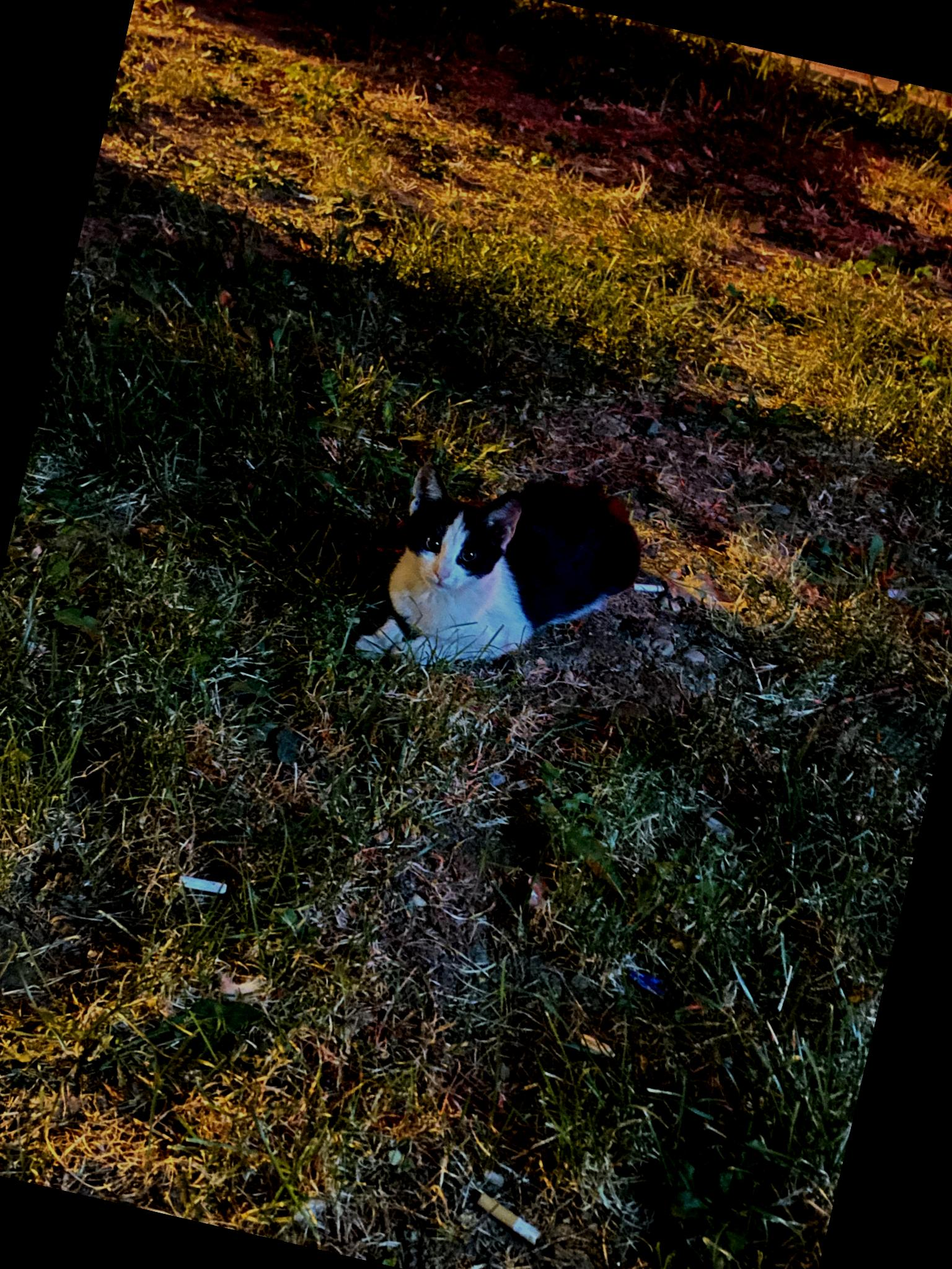macka: (346, 442, 654, 717)
